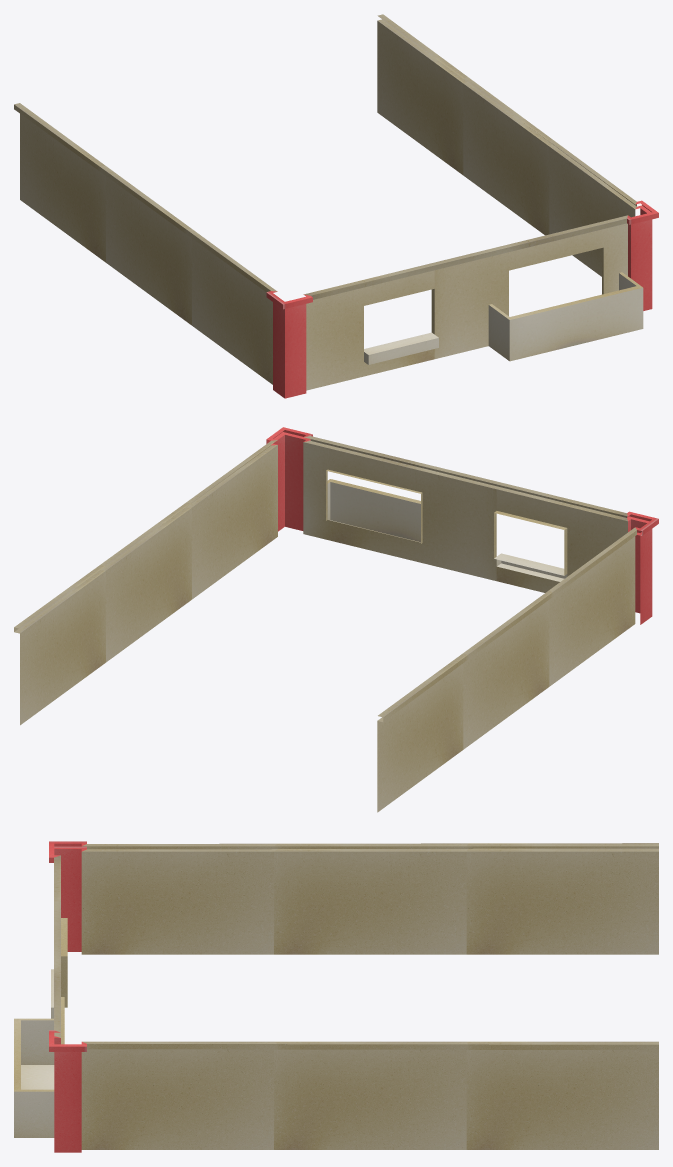
File: Predio15m_TileAndar2.FBX
3 views of the same model, one above another, from view 1: azimuth 30°, elevation 25°; view 2: azimuth 150°, elevation 25°; view 3: azimuth 270°, elevation 25° (orthographic). The views are drawn at different scales.
Visible parts, largest first — view 1: Predio15m_TileAndar2; view 2: Predio15m_TileAndar2; view 3: Predio15m_TileAndar2.
Boxes of the visible parts, left/top/right/bottom form: Predio15m_TileAndar2: left=14, top=14, right=658, bottom=398; Predio15m_TileAndar2: left=14, top=427, right=658, bottom=812; Predio15m_TileAndar2: left=14, top=841, right=658, bottom=1152.
Size of the model in its own units: 1218 by 300 by 1618.
1 material, 1 textured.
